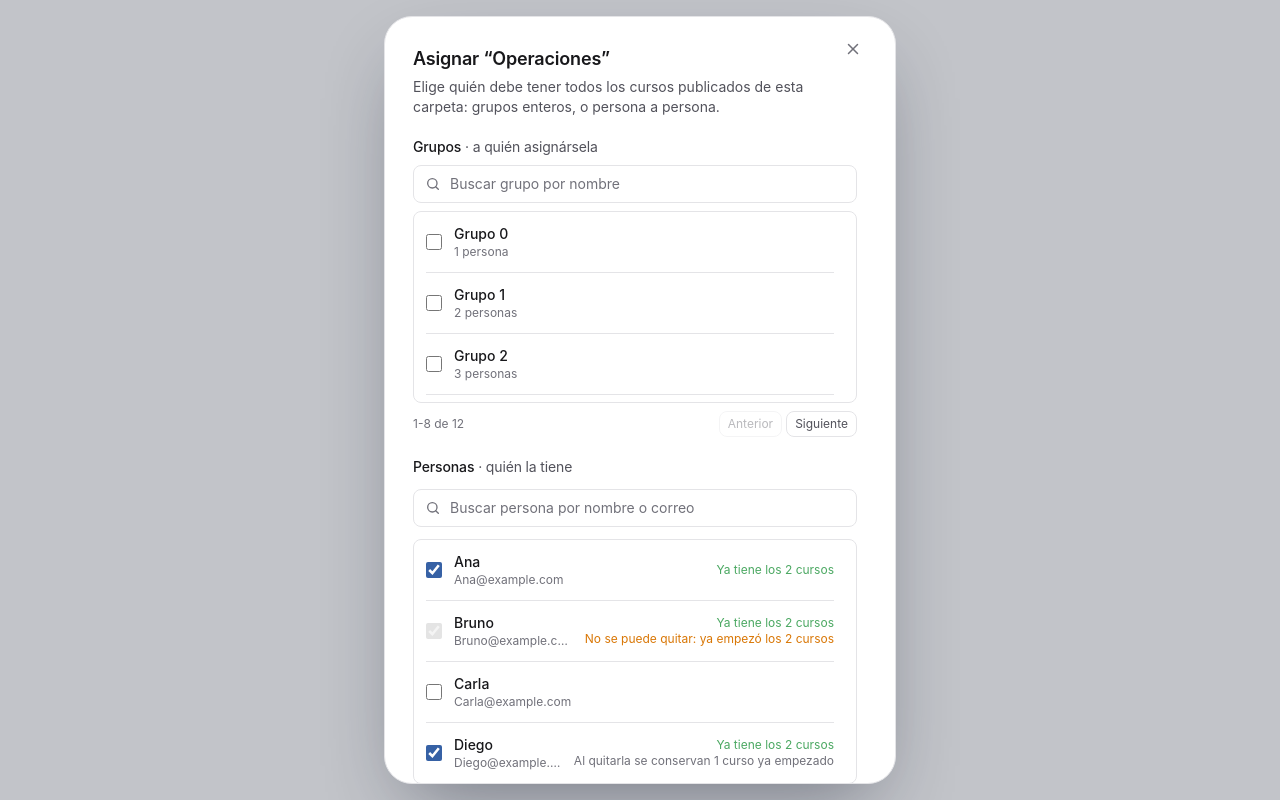
Test: FolderAssignmentDialog › when there are many groups › searches on the server, not in the page already fetched
Expected: the text "Ana" is shown, x1=454 y1=553 x2=480 y2=570
Expected: the checkbox labelled "Ana Ana@example.com Ya tiene los 2 cursos" is checked, x1=426 y1=562 x2=442 y2=578
Type "Grupo 11" into the search field with placeholder "Buscar grupo por nombre". click: coordinates (635, 184)
box: x1=413 y1=165 x2=857 y2=203
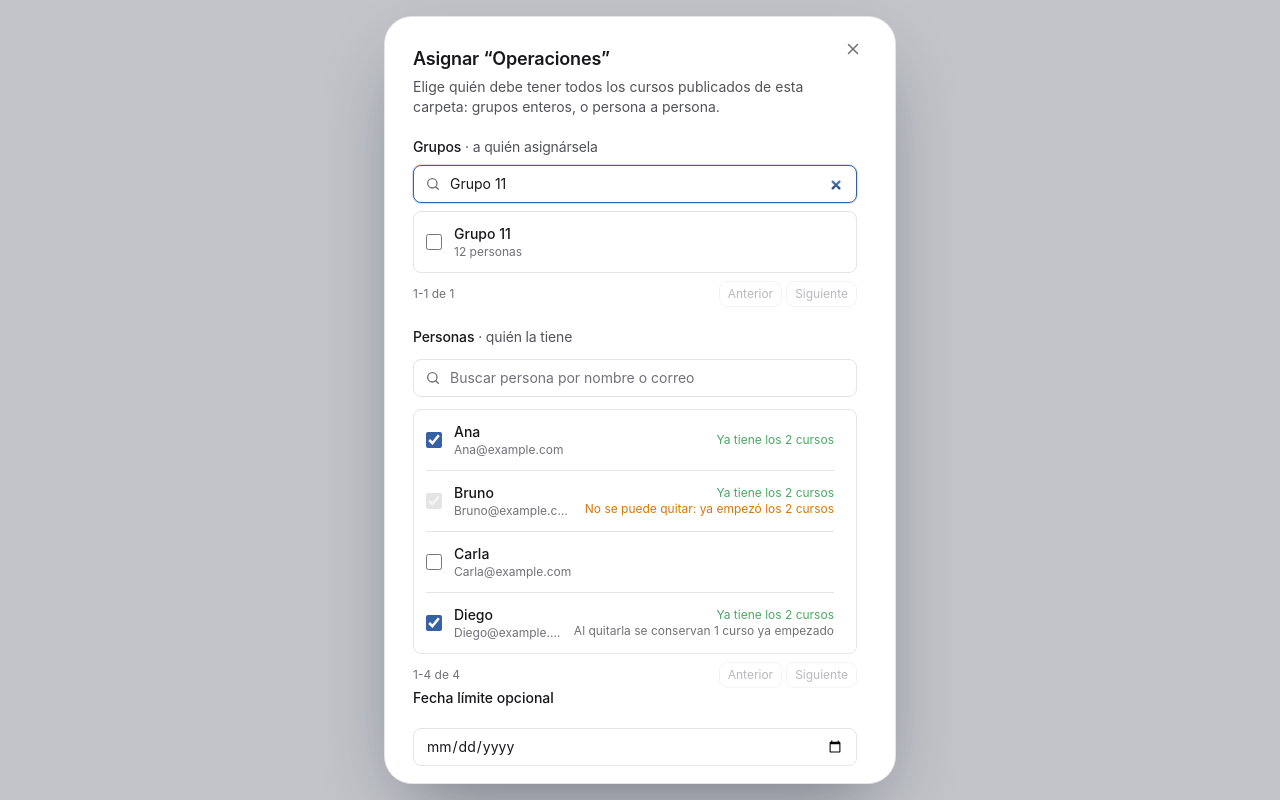
Now the text "Grupo 11" is shown, box x1=454 y1=225 x2=511 y2=242
